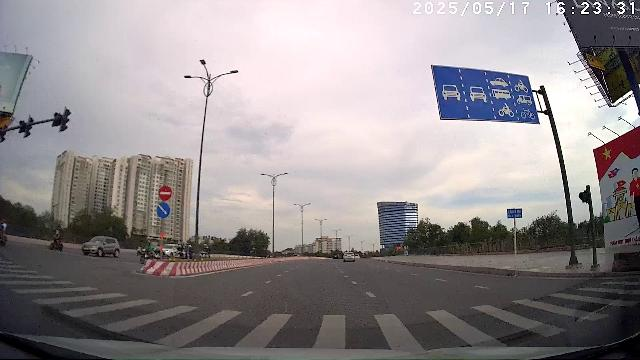102-cam-di-nguoc-chieu: (158, 186, 172, 200)
302a-huong-phai-di-vong-chuong-ngai-vat-1: (156, 204, 170, 219)
